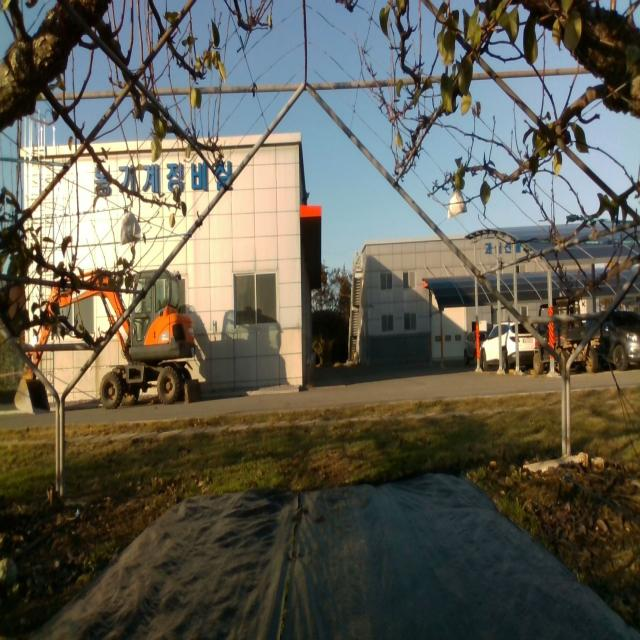pearbags: (120, 208, 140, 246), (447, 190, 467, 220)
